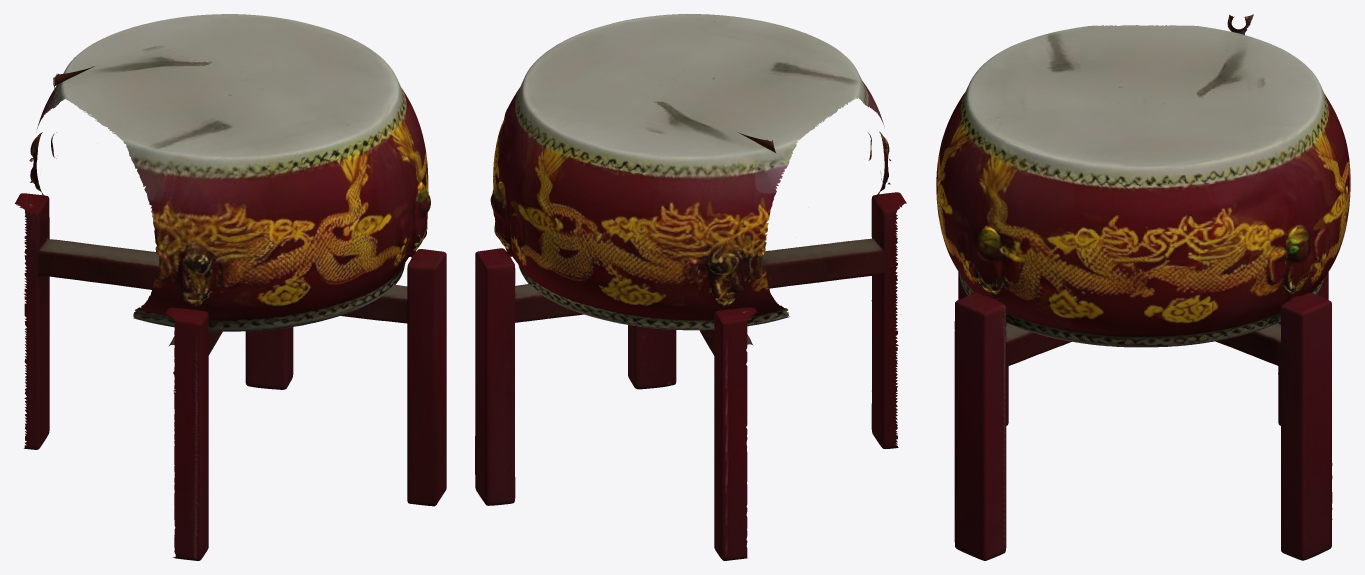
The model's file is taiko_tambor.glb.
3 views of the same model, side by side, from view 1: azimuth 30°, elevation 25°; view 2: azimuth 150°, elevation 25°; view 3: azimuth 270°, elevation 25° (orthographic). The views are drawn at different scales.
Visible parts, largest first — view 1: tambor; view 2: tambor; view 3: tambor.
Part boxes in pixels (left/top/right/bottom): tambor: left=15, top=14, right=446, bottom=560; tambor: left=475, top=14, right=906, bottom=560; tambor: left=936, top=14, right=1350, bottom=560.
Size of the model in its own units: 0.4422 by 0.546 by 0.4992.
1 material, 1 textured.
